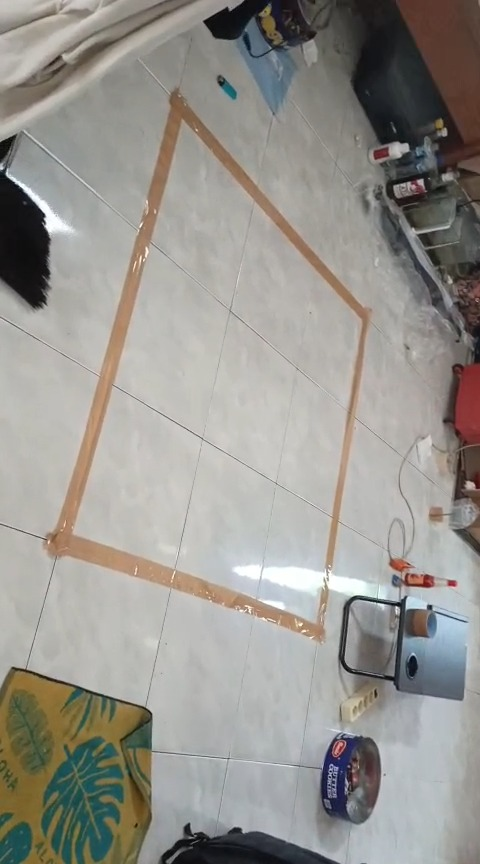floor marking: (47, 90, 370, 639)
